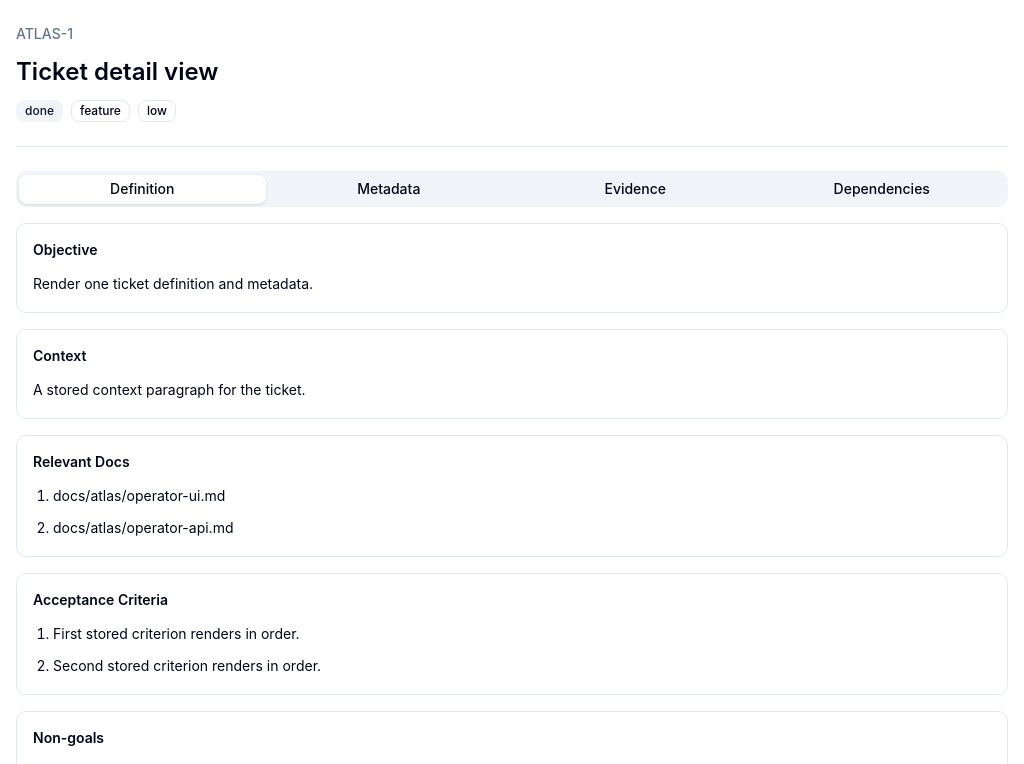
ticket detail view rendering › renders a ready verdict with no not-ready reason list
Press the mouse on the tab "Dependencies" at x=882, y=189, box [758, 174, 1005, 204]
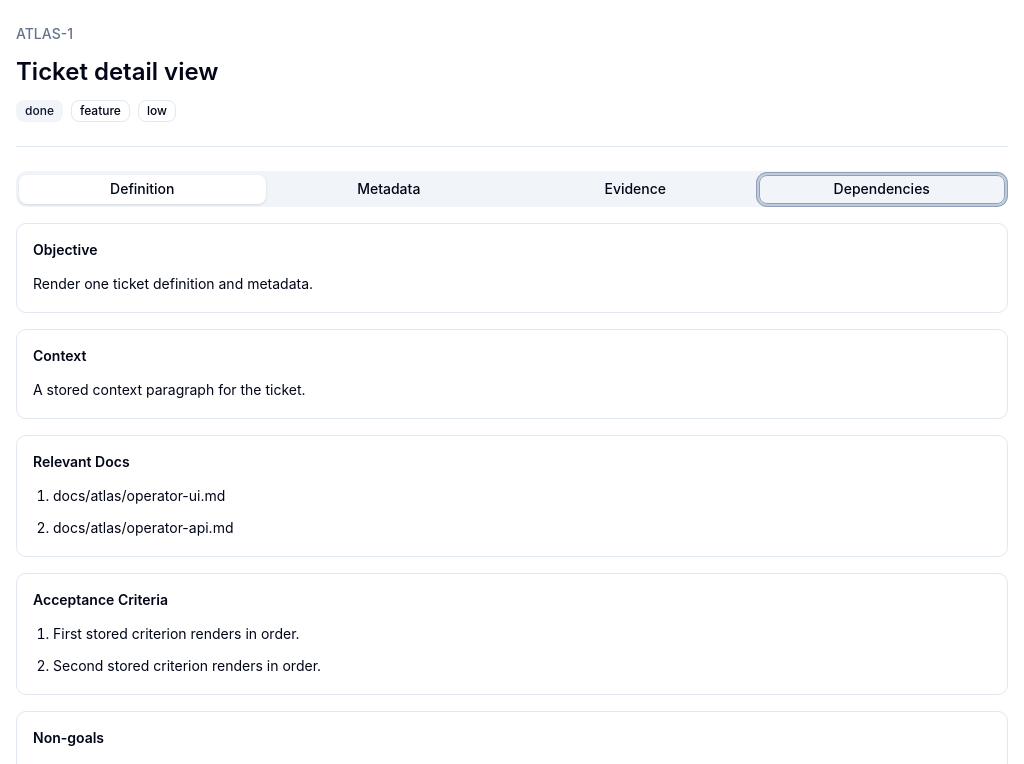
Click the tab "Dependencies" at x=882, y=189, box [758, 174, 1005, 204]
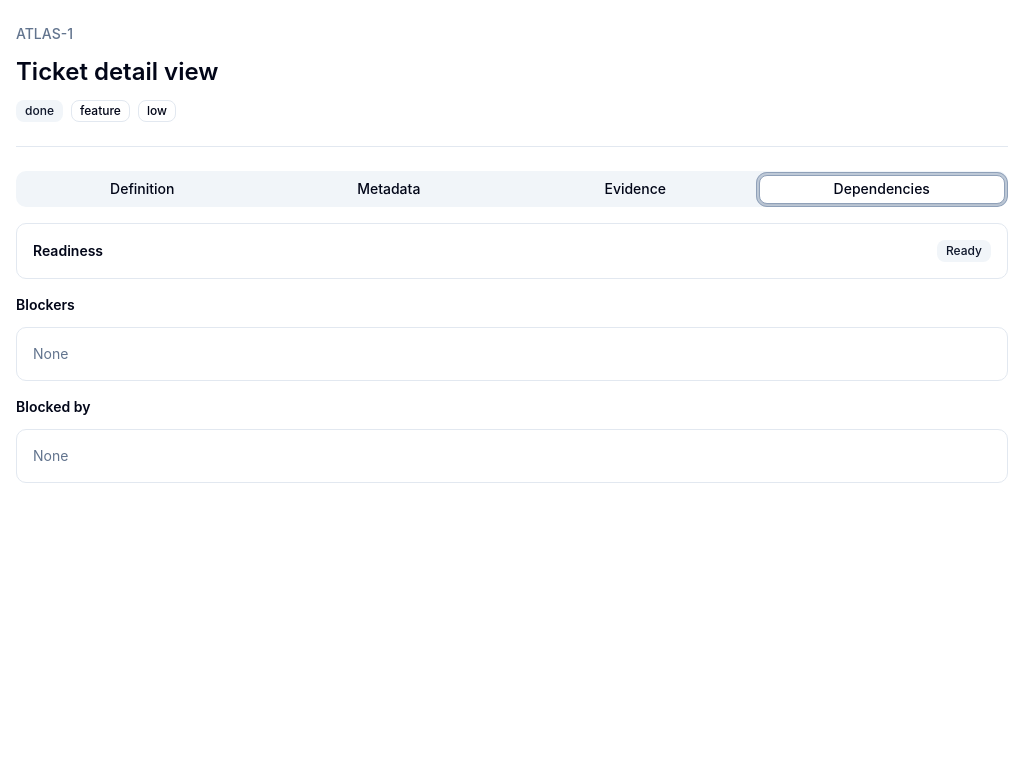
Result: the text "Ready" is shown at [937, 240, 991, 262]
Result: the text "None" below "Blockers" is shown at [33, 345, 68, 362]
